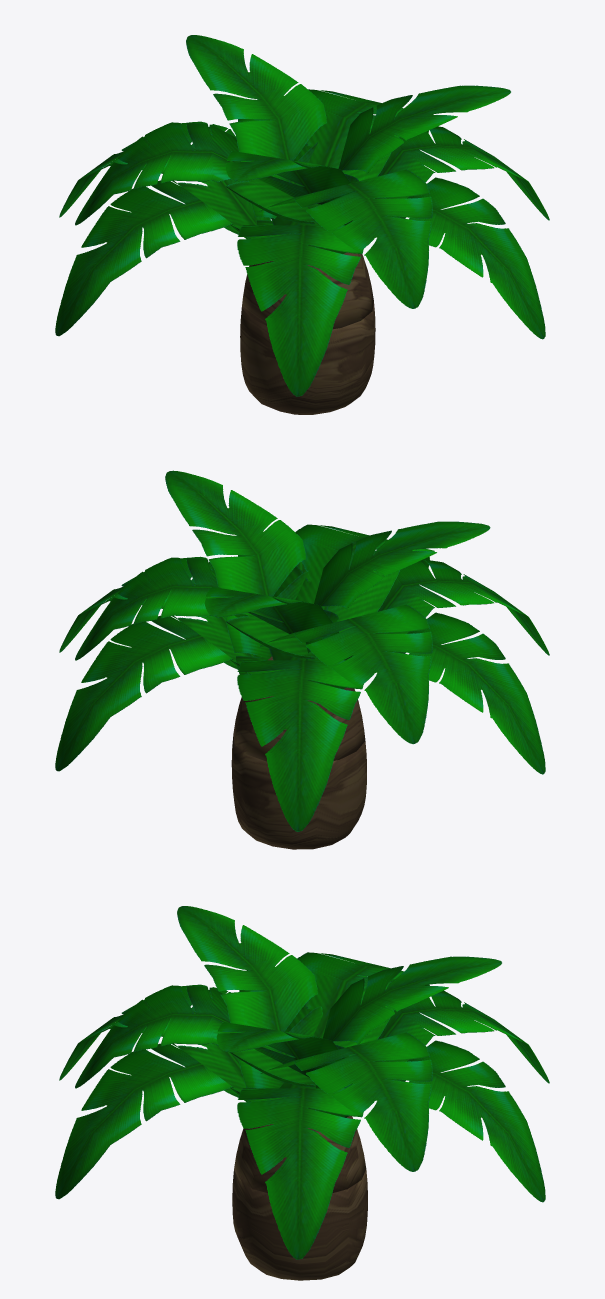
File: PR_Palm_Little.fbx
3 views of the same model, one above another, from view 1: azimuth 30°, elevation 25°; view 2: azimuth 150°, elevation 25°; view 3: azimuth 270°, elevation 25° (orthographic).
Visible parts, largest first — view 1: Palm Leaf.019, Palm Leaf.020, Palm Leaf.044, Cube.011, Cube.005; view 2: Palm Leaf.019, Palm Leaf.020, Palm Leaf.044, Cube.011, Cube.005; view 3: Palm Leaf.019, Palm Leaf.020, Palm Leaf.044, Cube.011, Cube.005.
Part boxes in pixels (x1,y1,x2,y2): Palm Leaf.019: (55,112,549,396); Palm Leaf.020: (75,89,432,308); Palm Leaf.044: (186,35,510,225); Cube.011: (240,301,375,414); Cube.005: (242,252,373,329); Palm Leaf.019: (55,555,549,831); Palm Leaf.020: (75,524,434,744); Palm Leaf.044: (165,470,490,674); Cube.011: (231,734,366,849); Cube.005: (233,656,365,761); Palm Leaf.019: (55,970,549,1259); Palm Leaf.020: (75,952,432,1171); Palm Leaf.044: (177,906,501,1117); Cube.011: (232,1169,367,1280); Cube.005: (234,1116,366,1192).
Bounding box in the file's own units: 1549 × 857 × 1516.
